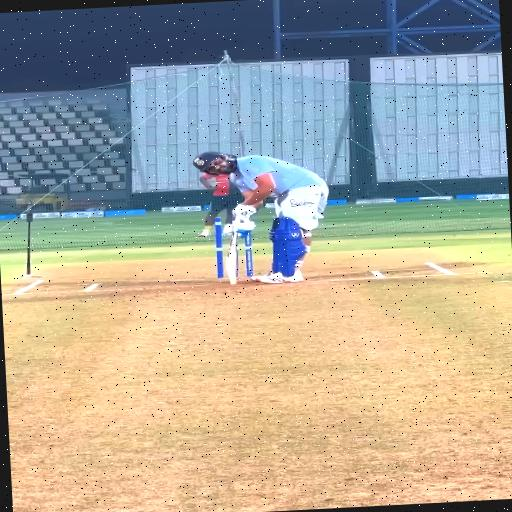Cricket bat: (225, 232, 238, 284)
